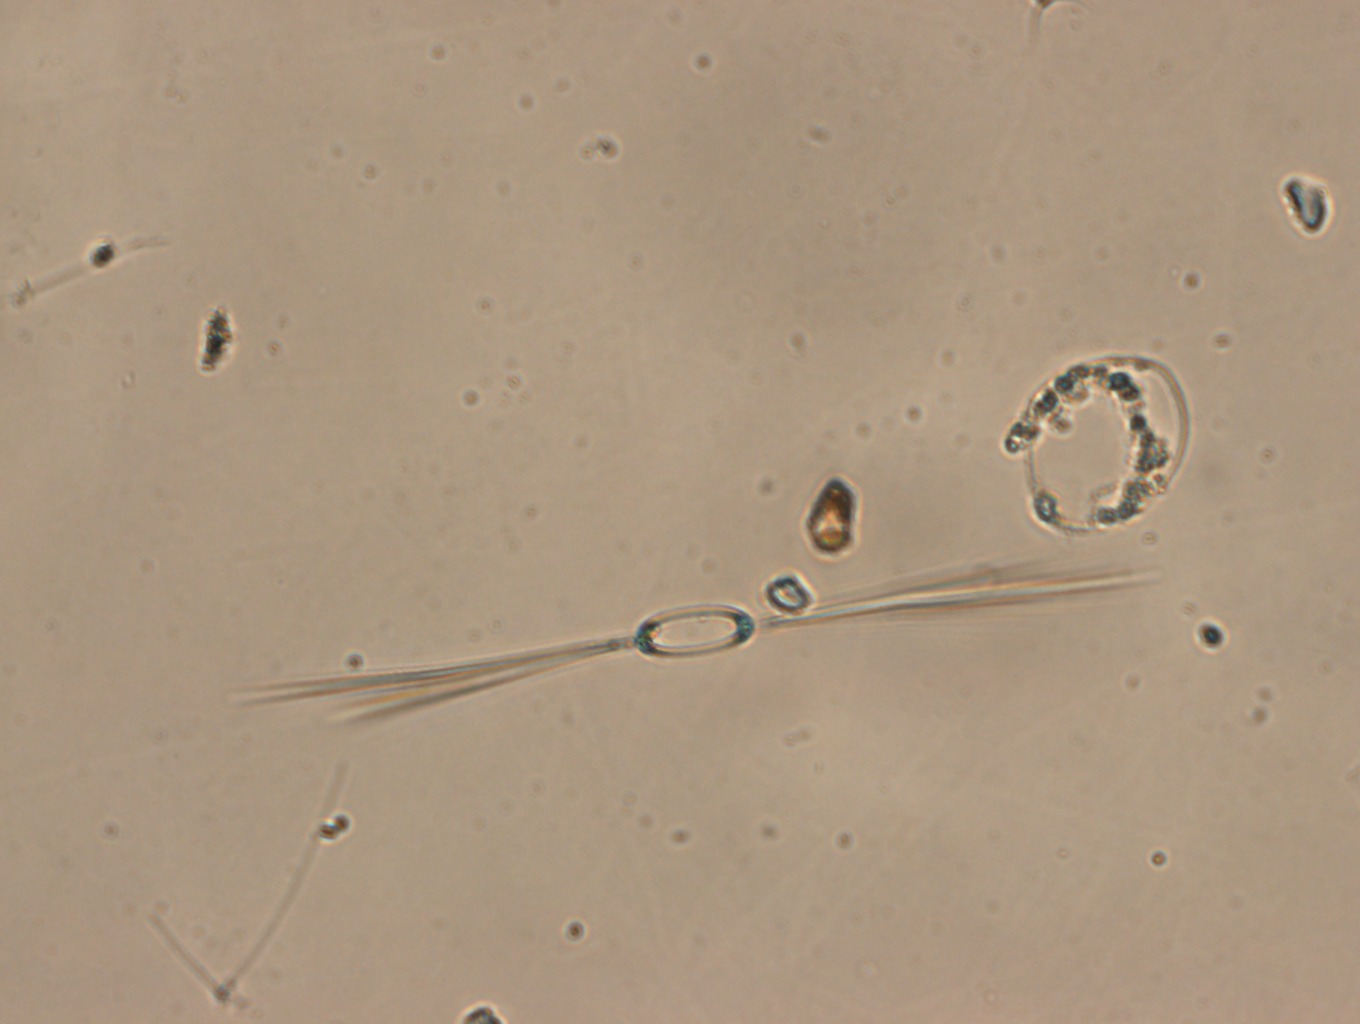chaetoceros: (234, 565, 1162, 728)
